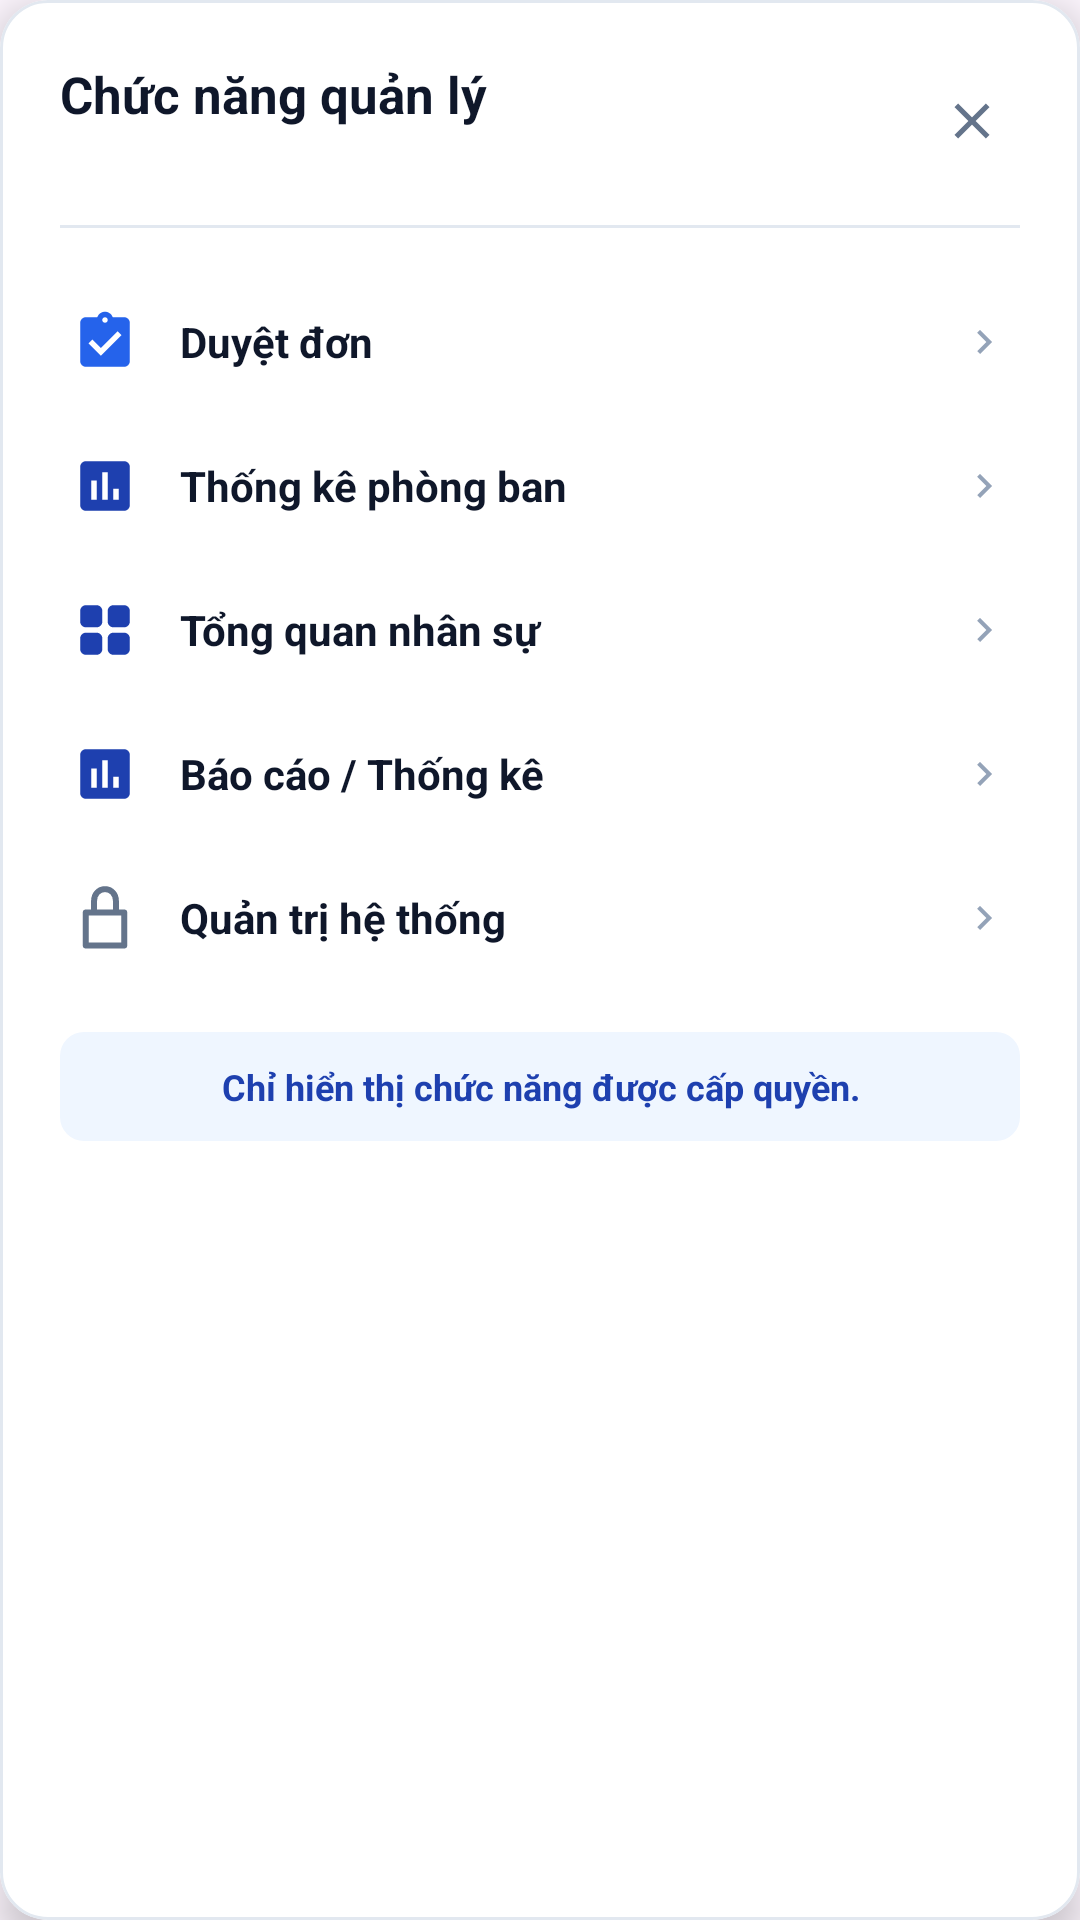

Named icons in this screenshot (1080px x 1920px) and their bounding boxes, (x1, y1, x2, y2):
approve: (80, 311, 130, 367)
chart: (80, 461, 130, 511), (80, 749, 130, 799)
chevron right: (977, 330, 992, 354), (977, 474, 992, 498), (977, 618, 992, 642), (977, 762, 992, 786), (977, 906, 992, 930)
Close: (954, 103, 990, 139)
grid: (80, 605, 130, 655)
lock: (82, 886, 128, 949)
